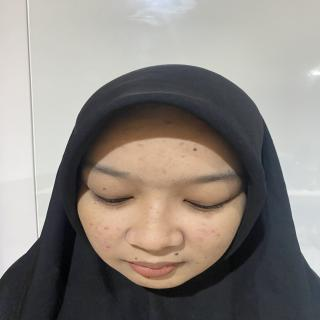Sedih: (71, 75, 256, 298)
